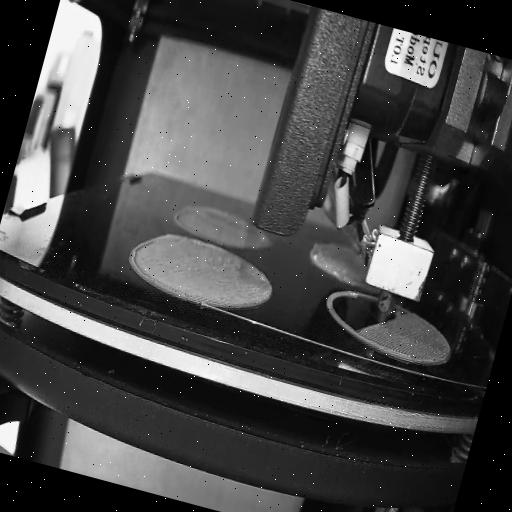over_extrusion: (122, 230, 154, 282)
